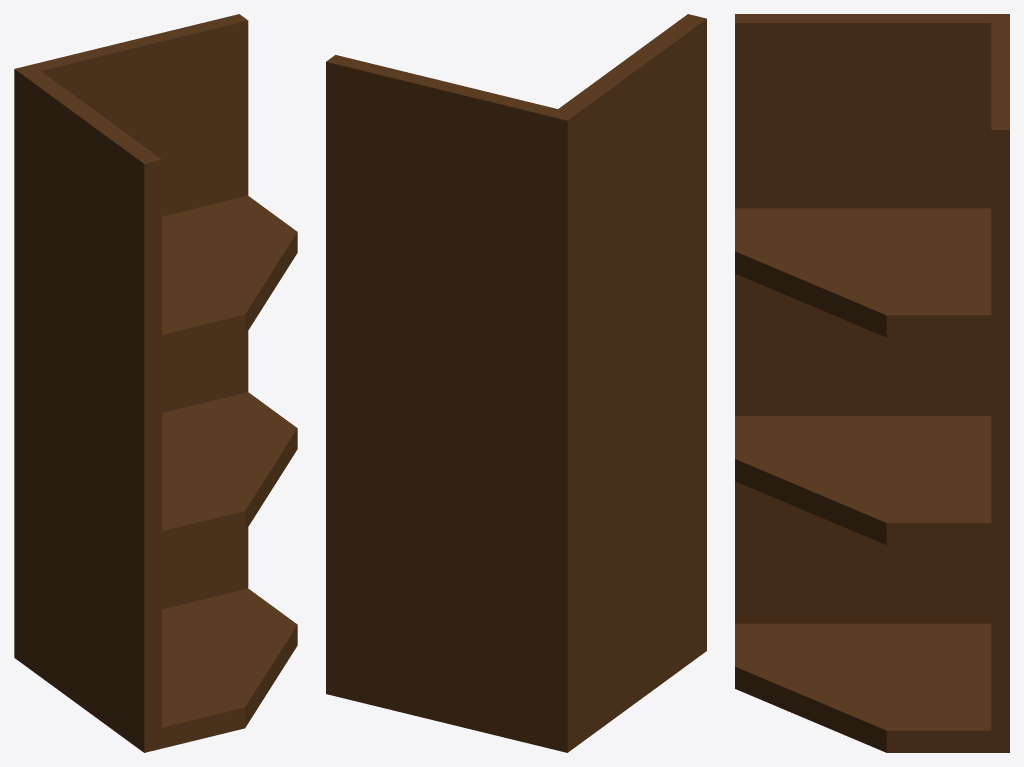
The model's file is cornerShelf.fbx.
3 renders of one model, left to right at view 1: azimuth 30°, elevation 25°; view 2: azimuth 150°, elevation 25°; view 3: azimuth 270°, elevation 25°, orthographic. The views are drawn at different scales.
Parts seen in each view (by area): view 1: Corner Shelf; view 2: Corner Shelf; view 3: Corner Shelf.
Part boxes in pixels (<box>): Corner Shelf: <box>14,14,297,752</box>; Corner Shelf: <box>326,14,706,752</box>; Corner Shelf: <box>735,14,1009,752</box>.
Size of the model in its own units: 868 by 868 by 2172.
